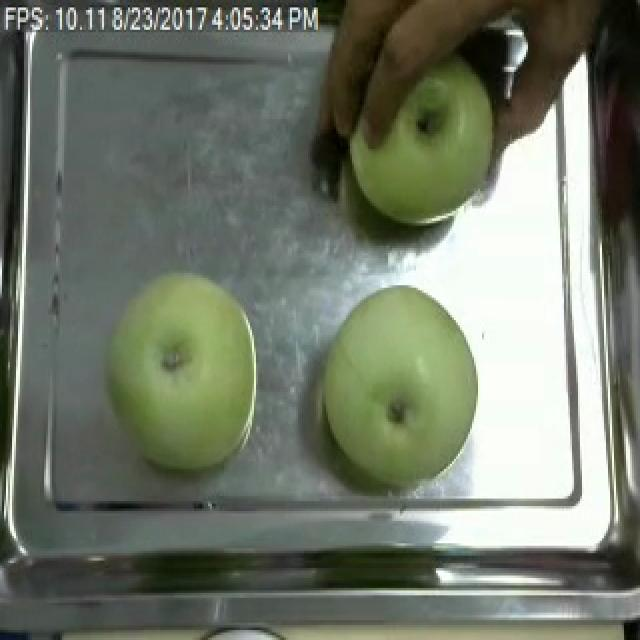50-_ripeness: (331, 284, 482, 486), (113, 272, 262, 473)
